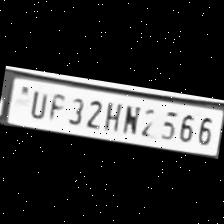2: (81, 94, 105, 128), (139, 102, 159, 138)
3: (64, 91, 86, 125)
5: (155, 105, 179, 140)
6: (192, 112, 216, 146), (174, 108, 196, 143)
H: (100, 97, 123, 131)
N: (118, 100, 143, 134)
P: (46, 88, 67, 122)
U: (24, 86, 49, 118)
